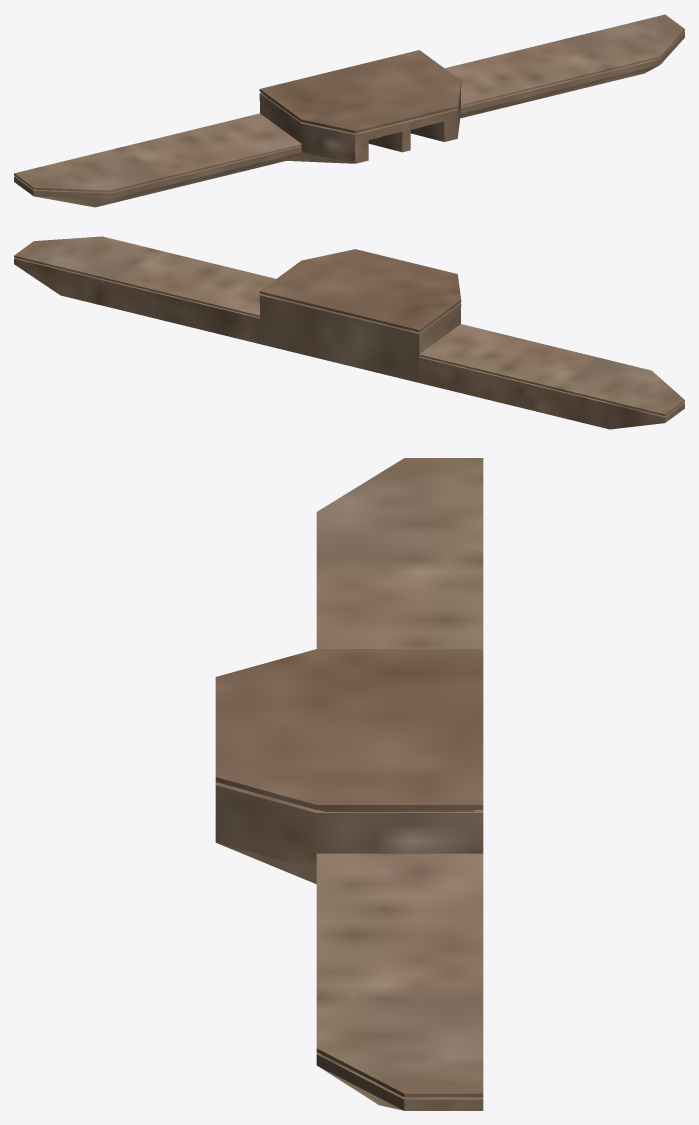
The model's file is xi_dsp_bench.gltf.
The picture shows the model from 3 angles, top to bottom: view 1: azimuth 30°, elevation 25°; view 2: azimuth 150°, elevation 25°; view 3: azimuth 270°, elevation 25°; orthographic projection. The views are drawn at different scales.
Visible parts, largest first — view 1: xi_dsp_bench; view 2: xi_dsp_bench; view 3: xi_dsp_bench.
Boxes of the visible parts, x1,y1,x2,y2 form: xi_dsp_bench: [14, 14, 684, 207]; xi_dsp_bench: [14, 236, 684, 429]; xi_dsp_bench: [215, 458, 483, 1110].
Size of the model in its own units: 10.48 by 0.8145 by 1.87.
1 material, 1 textured.
